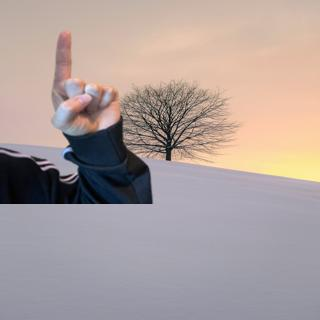IRRITATED: (47, 27, 122, 139)
